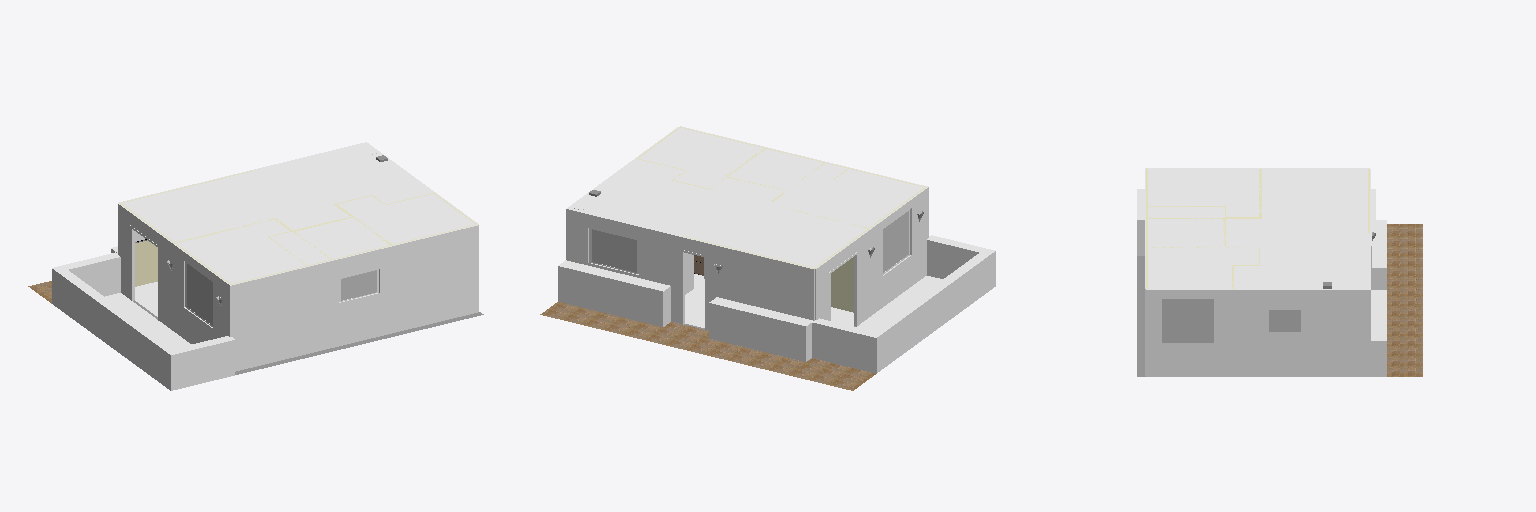
3 views of the same model, side by side, from view 1: azimuth 30°, elevation 25°; view 2: azimuth 150°, elevation 25°; view 3: azimuth 270°, elevation 25° (orthographic).
Visible parts, largest first — view 1: wall_1_4, room_27_159, wall_2_10, wall_23_137, room_28_161, wall_24_143, room_29_163, wall_22_130, sweethome3d_window_pane_182, room_30_164, ground_1, wall_15_88 (+5 smaller); view 2: room_27_159, room_31_165, wall_15_89, wall_2_10, wall_14_83, wall_23_137, wall_26_155, wall_25_149, room_28_161, wall_22_131, room_29_163, sweethome3d_window_pane_179 (+7 smaller); view 3: room_27_159, room_31_165, wall_12_70, wall_21_124, wall_13_76, room_28_161, sweethome3d_window_pane_207, wall_20_118, room_29_163, ground_1, sweethome3d_window_pane_210.
Boxes of the visible parts, box(x1,y1,x2,y2) form: wall_1_4: box(230, 225, 478, 371); room_27_159: box(121, 172, 475, 283); wall_2_10: box(118, 204, 229, 343); wall_23_137: box(52, 269, 170, 390); room_28_161: box(252, 144, 393, 191); wall_24_143: box(171, 340, 234, 390); room_29_163: box(311, 164, 419, 203); wall_22_130: box(69, 257, 120, 296); sweethome3d_window_pane_182: box(187, 264, 212, 325); room_30_164: box(105, 293, 191, 348); ground_1: box(133, 300, 483, 374); wall_15_88: box(135, 240, 157, 286); room_27_159: box(626, 128, 924, 267); room_31_165: box(540, 302, 875, 390); wall_15_89: box(682, 237, 814, 330); wall_2_10: box(815, 187, 928, 324); wall_14_83: box(566, 209, 681, 323); wall_23_137: box(877, 251, 995, 372); wall_26_155: box(558, 266, 666, 326); wall_25_149: box(709, 303, 809, 361); room_28_161: box(570, 188, 711, 235); wall_22_131: box(812, 323, 876, 373); room_29_163: box(597, 169, 707, 206); sweethome3d_window_pane_179: box(592, 229, 636, 272); room_27_159: box(1148, 169, 1367, 288); room_31_165: box(1387, 224, 1422, 376); wall_12_70: box(1310, 290, 1370, 376); wall_21_124: box(1146, 290, 1234, 376); wall_13_76: box(1260, 290, 1309, 376); room_28_161: box(1311, 233, 1367, 288); sweethome3d_window_pane_207: box(1162, 299, 1213, 342); wall_20_118: box(1234, 290, 1259, 376); room_29_163: box(1262, 247, 1310, 289); ground_1: box(1137, 256, 1145, 376); sweethome3d_window_pane_210: box(1269, 310, 1300, 331).
Size of the model in its own units: 917 by 250 by 726.
Materials: 27 (5 with a texture image).